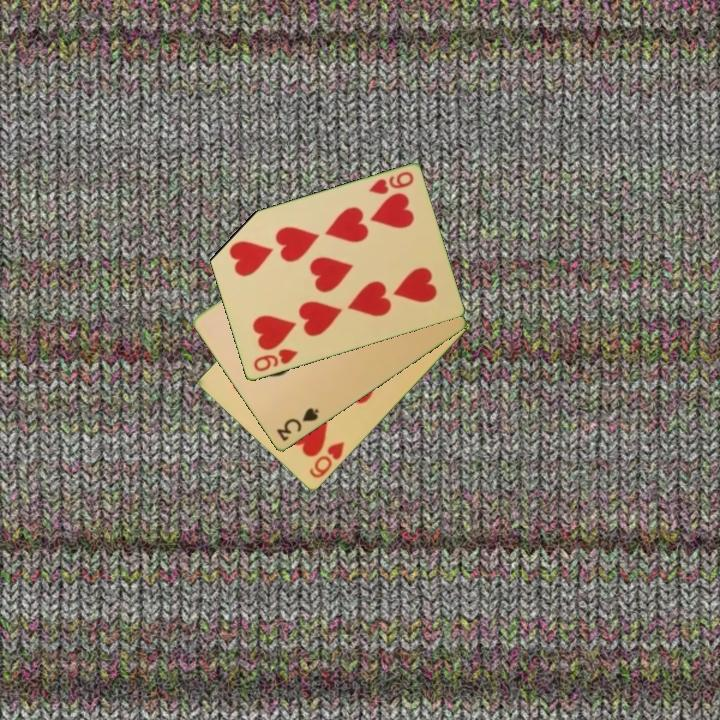3s: (273, 404, 322, 445)
6h: (306, 438, 347, 482)
9h: (365, 168, 416, 198), (250, 346, 300, 375)
